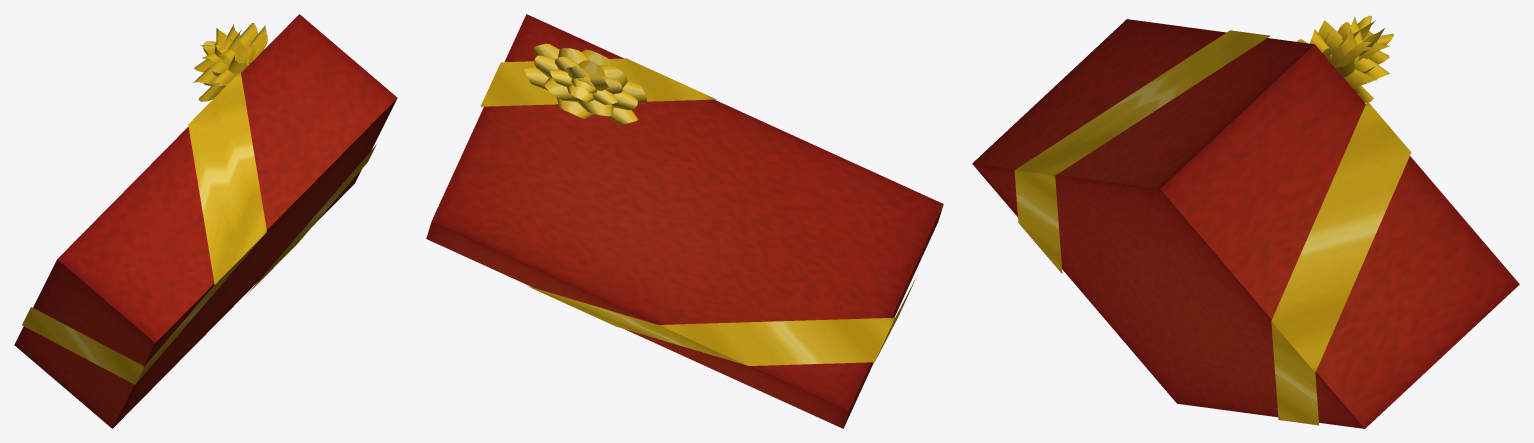
File: GiftBox_B.glb
The picture shows the model from 3 angles, left to right: view 1: azimuth 30°, elevation 25°; view 2: azimuth 150°, elevation 25°; view 3: azimuth 270°, elevation 25°; orthographic projection. The views are drawn at different scales.
Parts seen in each view (by area): view 1: PQ_Ch_GiftBox_B(Clone); view 2: PQ_Ch_GiftBox_B(Clone); view 3: PQ_Ch_GiftBox_B(Clone).
Part boxes in pixels (left/top/right/bottom): PQ_Ch_GiftBox_B(Clone): left=14, top=14, right=397, bottom=428; PQ_Ch_GiftBox_B(Clone): left=426, top=14, right=943, bottom=428; PQ_Ch_GiftBox_B(Clone): left=972, top=15, right=1519, bottom=428.
Size of the model in its own units: 65.45 by 55.63 by 50.77.
Materials: 2 (2 with a texture image).
